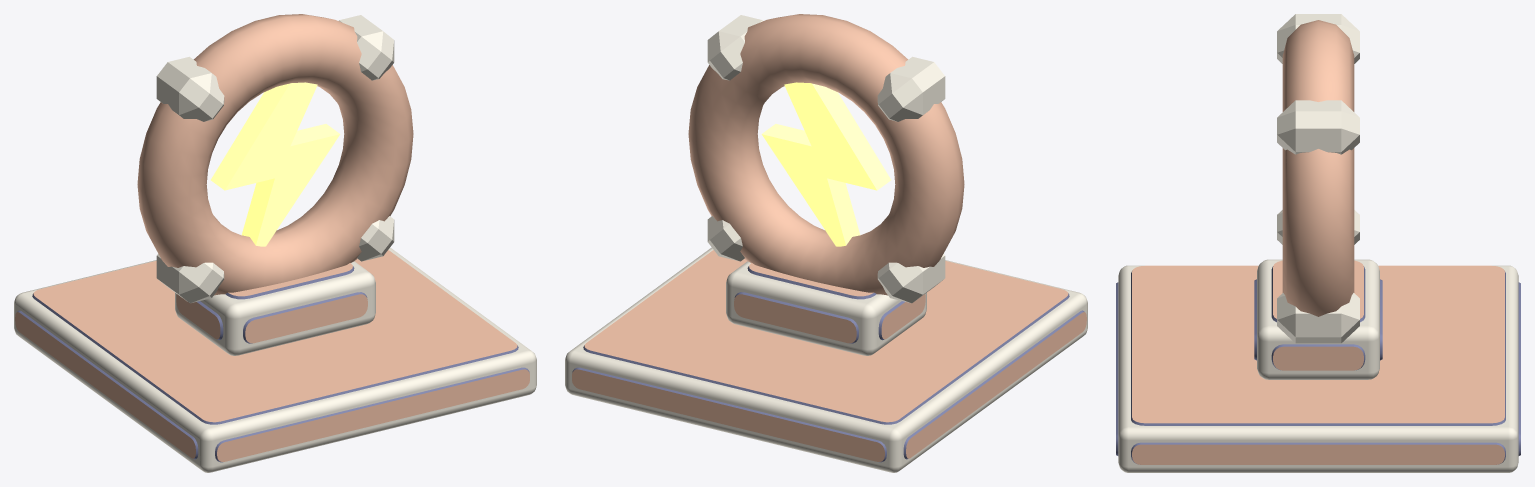
File: R4X_RechargePulse.fbx
3 views of the same model, side by side, from view 1: azimuth 30°, elevation 25°; view 2: azimuth 150°, elevation 25°; view 3: azimuth 270°, elevation 25° (orthographic). The views are drawn at different scales.
Parts seen in each view (by area): view 1: R4X_RechargePulse_Body; view 2: R4X_RechargePulse_Body; view 3: R4X_RechargePulse_Body.
Boxes of the visible parts, <box> form: R4X_RechargePulse_Body: <box>14,14,536,472</box>; R4X_RechargePulse_Body: <box>565,14,1087,472</box>; R4X_RechargePulse_Body: <box>1116,14,1520,472</box>.
Bounding box in the file's own units: 0.52 × 0.5081 × 0.52.
